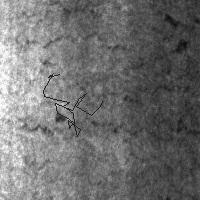crazing: (27, 32, 176, 157), (18, 9, 146, 74), (22, 152, 200, 196), (43, 73, 102, 136)
